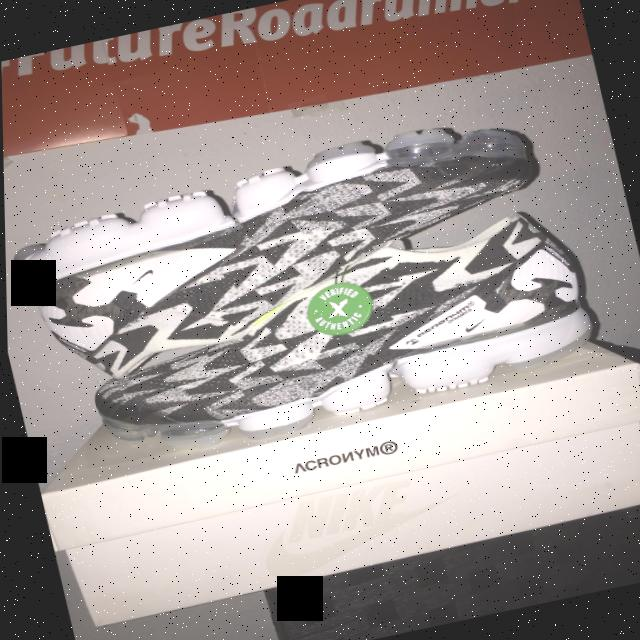shoes: (19, 186, 640, 513), (1, 78, 624, 342)
